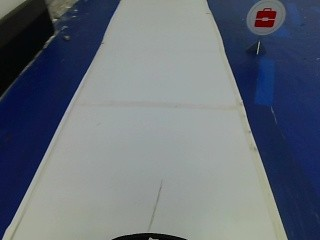company: (245, 0, 285, 36)
